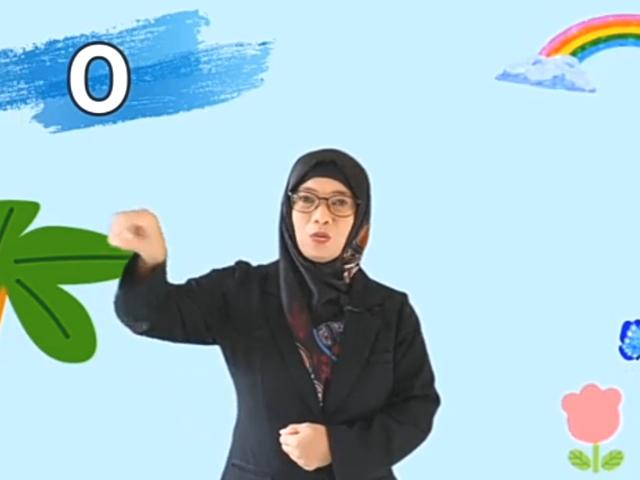O: (105, 205, 172, 267)
